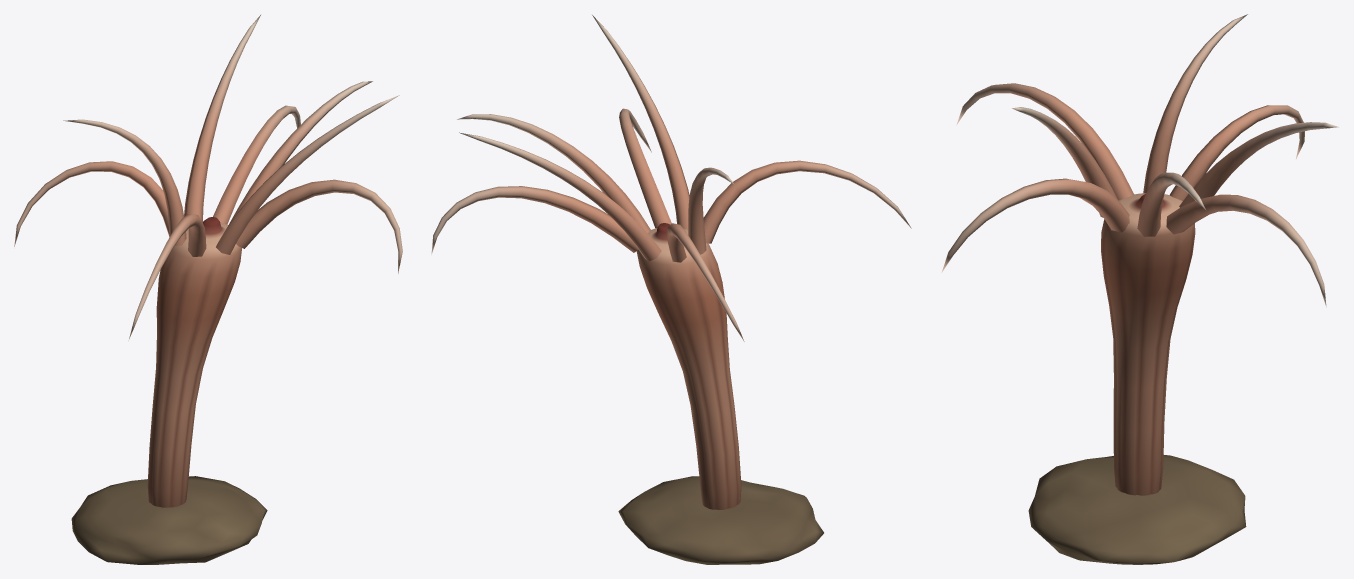
File: NailianaElegans.fbx
The picture shows the model from 3 angles, left to right: view 1: azimuth 30°, elevation 25°; view 2: azimuth 150°, elevation 25°; view 3: azimuth 270°, elevation 25°; orthographic projection. The views are drawn at different scales.
Parts seen in each view (by area): view 1: NailianaElegans; view 2: NailianaElegans; view 3: NailianaElegans.
Boxes of the visible parts, x1,y1,x2,y2 form: NailianaElegans: (14, 15, 402, 564); NailianaElegans: (431, 15, 911, 564); NailianaElegans: (941, 14, 1338, 564).
Bounding box in the file's own units: 1.22 × 1.48 × 0.9969.
